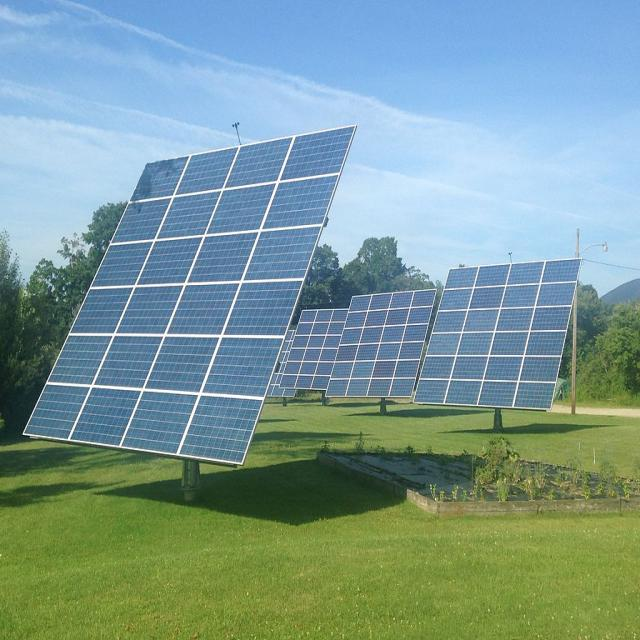dust-solar-panel: (25, 128, 355, 465), (414, 258, 580, 410), (326, 291, 435, 397)
